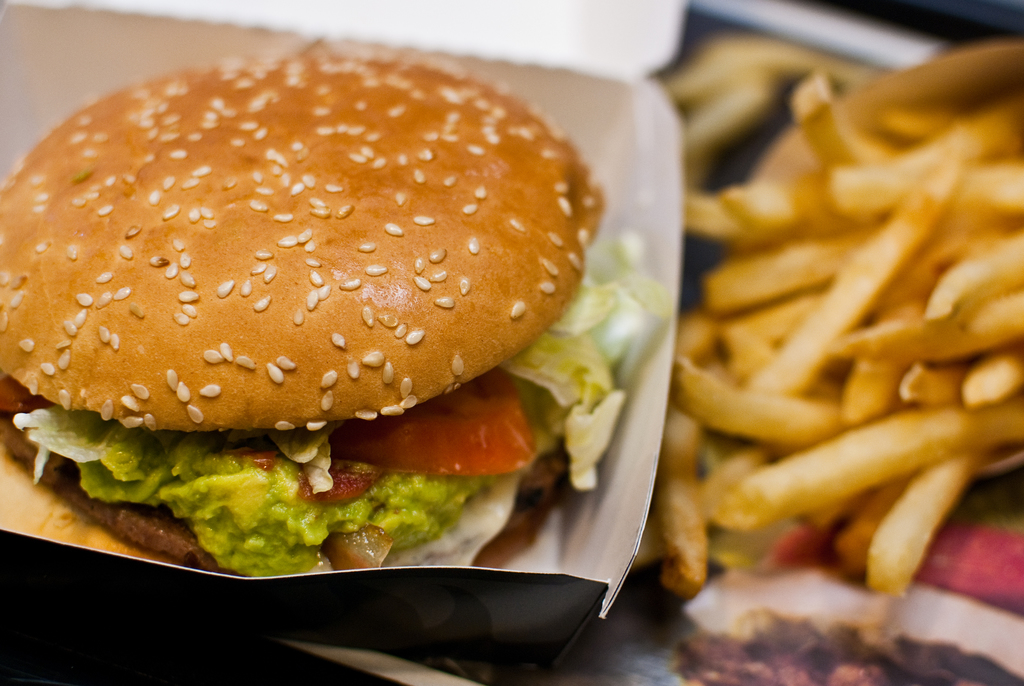Hamburger: (0, 56, 664, 577)
